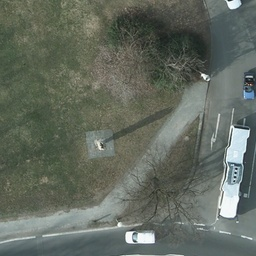car: (123, 229, 155, 245), (240, 70, 255, 100), (223, 1, 245, 11)
